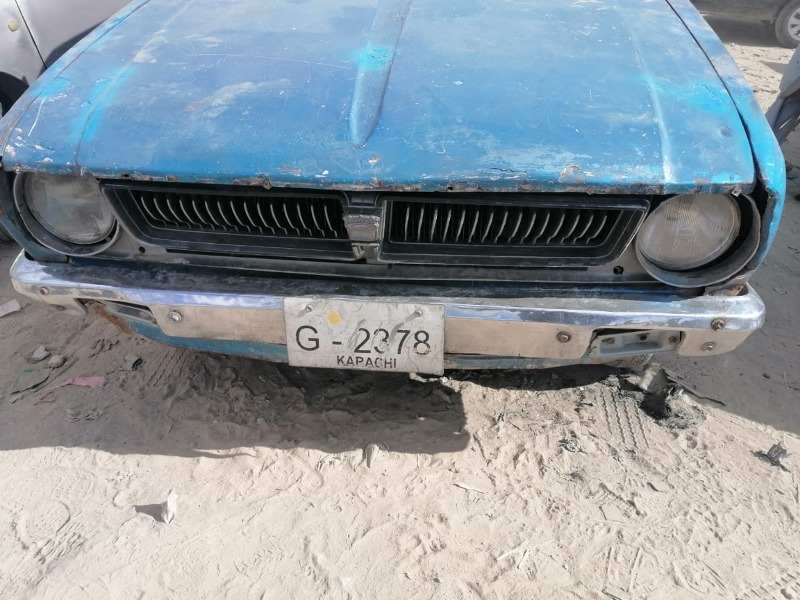License Plate: (278, 292, 449, 378)
